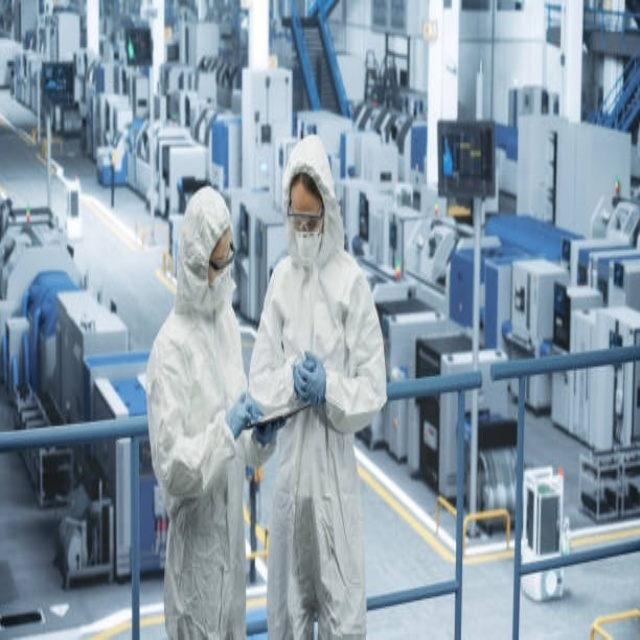Gafas: (287, 205, 325, 234), (209, 242, 235, 272)
Guantes: (294, 352, 326, 409), (226, 392, 259, 442), (253, 415, 284, 448)
Mascara: (290, 223, 324, 269), (207, 262, 234, 310)
